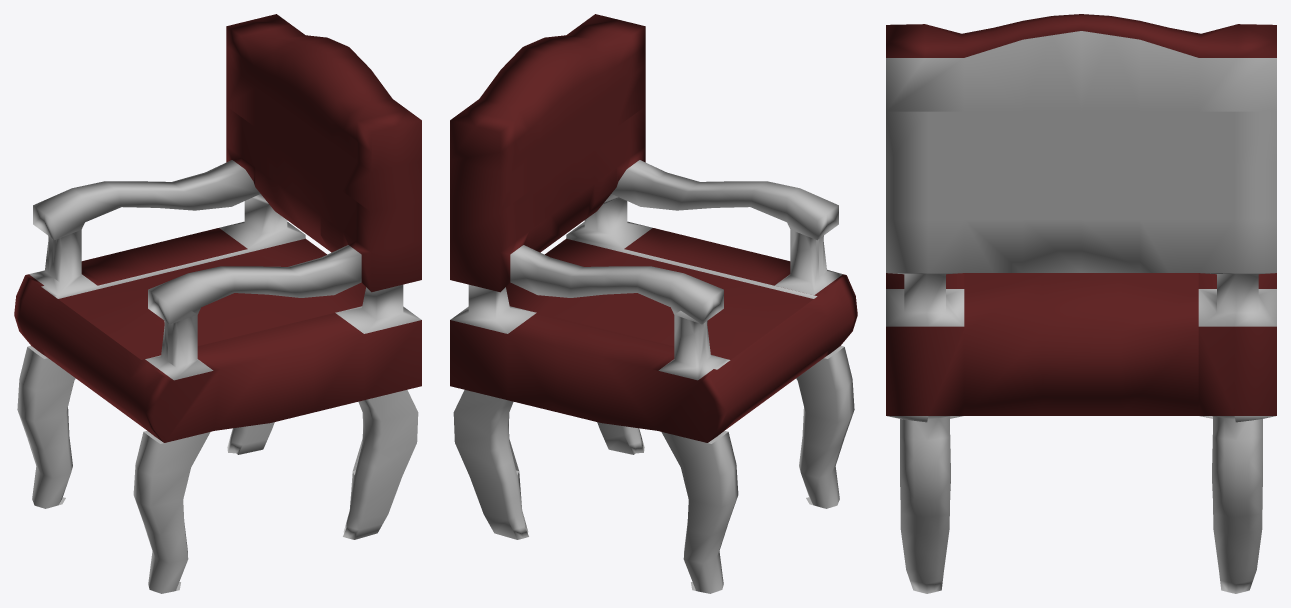
The model's file is ArmChairNewExport.fbx.
The picture shows the model from 3 angles, left to right: view 1: azimuth 30°, elevation 25°; view 2: azimuth 150°, elevation 25°; view 3: azimuth 270°, elevation 25°; orthographic projection. The views are drawn at different scales.
Visible parts, largest first — view 1: pCube1; view 2: pCube1; view 3: pCube1.
Boxes of the visible parts, <box> form: pCube1: <box>14,14,421,593</box>; pCube1: <box>450,14,857,593</box>; pCube1: <box>886,14,1276,593</box>.
Bounding box in the file's own units: 5.6 × 8.47 × 5.09.
